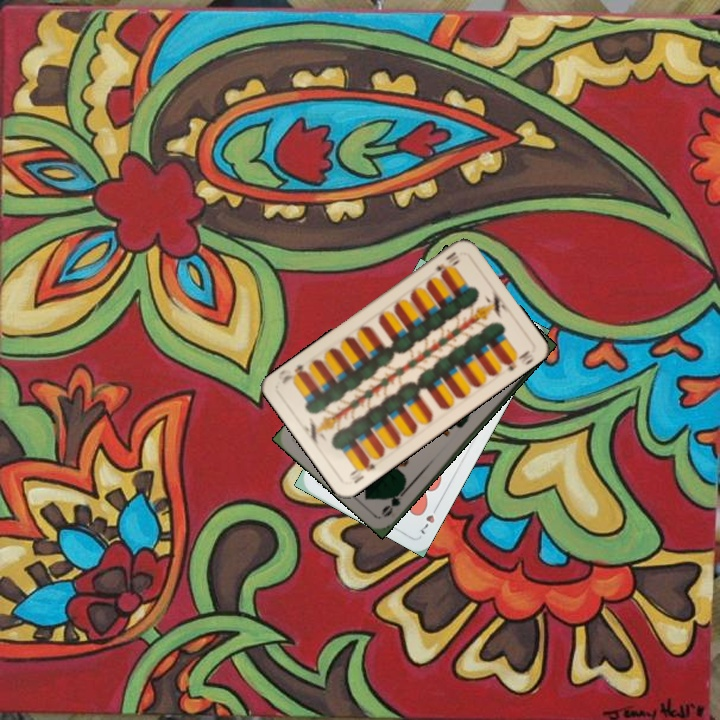E10: (345, 456, 378, 486), (431, 248, 463, 278)
GO: (378, 483, 410, 519)
H7: (417, 501, 441, 537)
